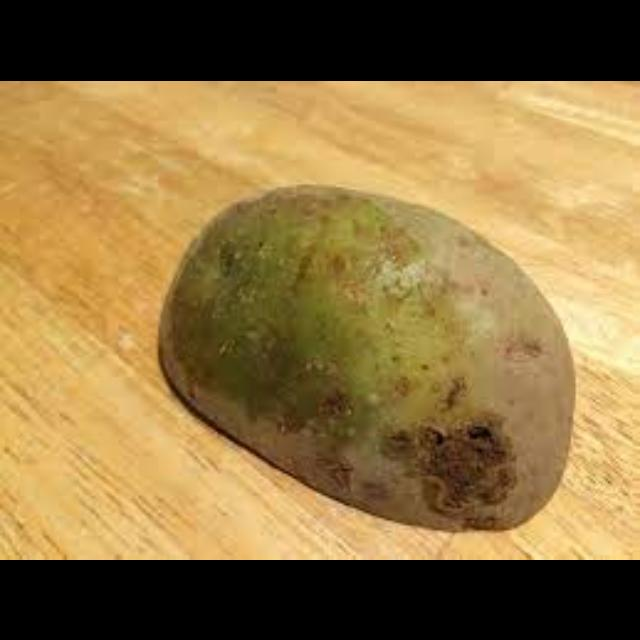Defected potato: (143, 187, 582, 543)
